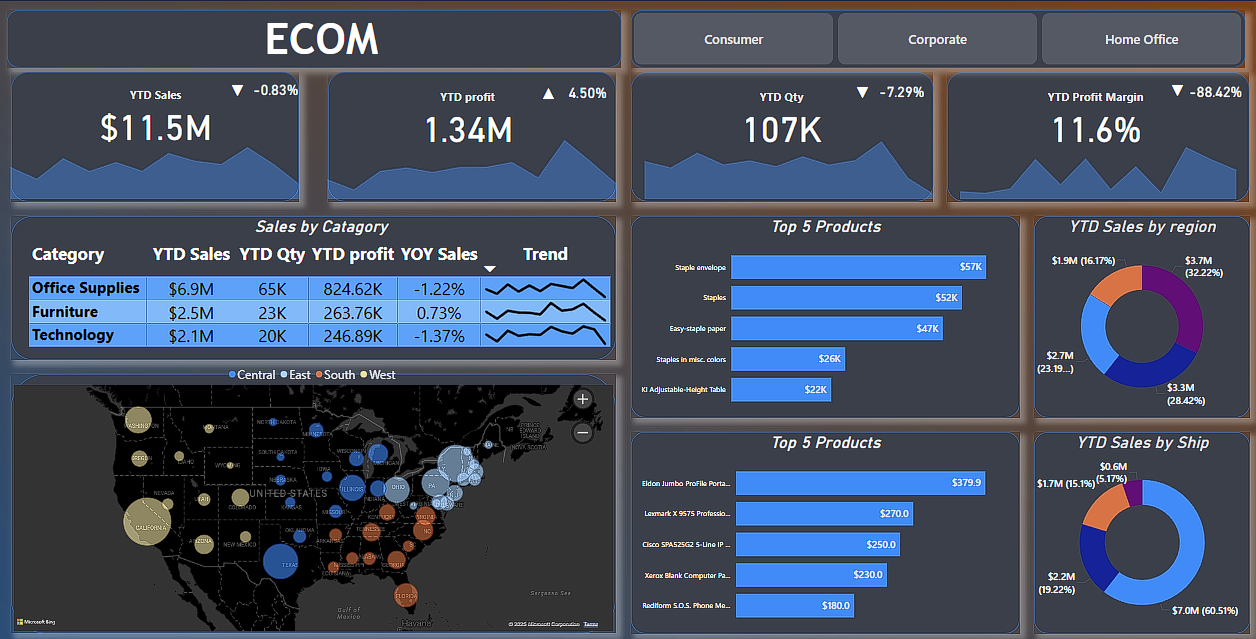

Layout of this report page (visuals, bound fields, positions):
{"tool":"powerbi","page":{"name":"Page 1","canvas":[2100,1080],"ordinal":0},"visuals":[{"type":"shape","box":[16,16,1024,96],"z":0},{"type":"textbox","box":[384,16,336,112],"z":1000},{"type":"shape","box":[24,120,480,216],"z":2000},{"type":"cardVisual","fields":{"Data":["_Measures.YTD Sales"]},"box":[128,128,272,128],"z":3000},{"type":"areaChart","fields":{"Category":["Calendar.Month"],"Y":["Sum(ecommerce_data.sales_per_order)"]},"box":[0,216,528,120],"z":4000},{"type":"cardVisual","fields":{"Data":["_Measures.YOY Sales"]},"box":[400,112,128,64],"z":5000},{"type":"cardVisual","fields":{"Data":["_Measures.Sales Icon"]},"box":[336,112,128,64],"z":6000},{"type":"shape","box":[552,120,480,216],"z":7000},{"type":"cardVisual","fields":{"Data":["_Measures.YTD profit"]},"box":[647.7,132.3,272,128],"z":8000},{"type":"areaChart","fields":{"Category":["Calendar.Month"],"Y":["Sum(ecommerce_data.profit_per_order)"]},"box":[528,216,528,120],"z":9000},{"type":"cardVisual","fields":{"Data":["_Measures.YOY Profit"]},"box":[919.7,116.3,128,64],"z":10000},{"type":"cardVisual","fields":{"Data":["_Measures.Profit Icon"]},"box":[855.7,116.3,128,64],"z":11000},{"type":"shape","box":[1056,120,504,216],"z":12000},{"type":"cardVisual","fields":{"Data":["_Measures.YTD Qty"]},"box":[1171,131.7,272,128],"z":13000},{"type":"areaChart","fields":{"Category":["Calendar.Month"],"Y":["Sum(ecommerce_data.order_quantity)"]},"box":[1056,216,528,120],"z":14000},{"type":"cardVisual","fields":{"Data":["_Measures.YOY Qty"]},"box":[1443,115.7,128,64],"z":15000},{"type":"cardVisual","fields":{"Data":["_Measures.Qty Icon"]},"box":[1379,115.7,128,64],"z":16000},{"type":"shape","box":[1584,120,504,216],"z":17000},{"type":"cardVisual","fields":{"Data":["_Measures.YTD Profit Margin"]},"box":[1694.3,131.7,272,128],"z":18000},{"type":"areaChart","fields":{"Category":["Calendar.Month"],"Y":["_Measures.Profit Margin"]},"box":[1584,216,504,120],"z":19000},{"type":"cardVisual","fields":{"Data":["_Measures.YoY Profit Margin"]},"box":[1966.3,115.7,128,64],"z":20000},{"type":"cardVisual","fields":{"Data":["_Measures.Profit Margin Icon"]},"box":[1904,112,128,64],"z":21000},{"type":"shape","box":[24,360,1008,240],"z":22000},{"type":"pivotTable","title":"Sales by Catagory","fields":{"Rows":["ecommerce_data.category_name"],"Values":["_Measures.YTD Sales","_Measures.YTD Qty","_Measures.YTD profit","_Measures.YOY Sales","SparklineData(Sum(ecommerce_data.sales_per_order)_[Calendar.Month])"]},"box":[48,360,984,240],"z":23000},{"type":"shape","box":[24,624,1008,432],"z":24000},{"type":"map","fields":{"X":["us_state_long_lat_codes.longitude"],"Y":["us_state_long_lat_codes.latitude"],"Series":["ecommerce_data.customer_region"],"Size":["_Measures.YTD Sales"]},"box":[24,600,1008,456],"z":25000},{"type":"shape","box":[1056,360,648,336],"z":25001},{"type":"shape","box":[1056,720,648,336],"z":25002},{"type":"barChart","title":"Top 5 Products","fields":{"Y":["_Measures.YTD Sales"],"Category":["ecommerce_data.product_name"]},"box":[1056,360,648,336],"z":25003},{"type":"barChart","title":"Top 5 Products","fields":{"Y":["_Measures.YTD Sales"],"Category":["ecommerce_data.product_name"]},"box":[1056,720,648,336],"z":25004},{"type":"shape","box":[1728,360,360,336],"z":25006},{"type":"shape","box":[1728,720,360,336],"z":25007},{"type":"donutChart","title":"YTD Sales by region","fields":{"Category":["ecommerce_data.customer_region"],"Y":["_Measures.YTD Sales"]},"box":[1728,360,360,336],"z":25008},{"type":"donutChart","title":"YTD Sales by Ship","fields":{"Y":["_Measures.YTD Sales"],"Category":["ecommerce_data.shipping_type"]},"box":[1716,720,384,336],"z":25009},{"type":"shape","box":[1056,16,1024,96],"z":25010},{"type":"advancedSlicerVisual","fields":{"Values":["ecommerce_data.customer_segment"]},"box":[1056,16,1024,96],"z":25011}]}

Visuals, with their boxes in screenshot pixels (x1, y1, x2, y2), scaled from the page's 2100x1080 canvas onto the 1256x639 screenshot:
shape: 10/9/622/66
textbox: 230/9/431/76
shape: 14/71/301/199
cardVisual - _Measures.YTD Sales: 77/76/239/151
areaChart - Calendar.Month x Sum(ecommerce_data.sales_per_order): 0/128/316/199
cardVisual - _Measures.YOY Sales: 239/66/316/104
cardVisual - _Measures.Sales Icon: 201/66/278/104
shape: 330/71/617/199
cardVisual - _Measures.YTD profit: 387/78/550/154
areaChart - Calendar.Month x Sum(ecommerce_data.profit_per_order): 316/128/632/199
cardVisual - _Measures.YOY Profit: 550/69/627/107
cardVisual - _Measures.Profit Icon: 512/69/588/107
shape: 632/71/933/199
cardVisual - _Measures.YTD Qty: 700/78/863/154
areaChart - Calendar.Month x Sum(ecommerce_data.order_quantity): 632/128/947/199
cardVisual - _Measures.YOY Qty: 863/68/940/106
cardVisual - _Measures.Qty Icon: 825/68/901/106
shape: 947/71/1249/199
cardVisual - _Measures.YTD Profit Margin: 1013/78/1176/154
areaChart - Calendar.Month x _Measures.Profit Margin: 947/128/1249/199
cardVisual - _Measures.YoY Profit Margin: 1176/68/1253/106
cardVisual - _Measures.Profit Margin Icon: 1139/66/1215/104
shape: 14/213/617/355
"Sales by Catagory" pivotTable: 29/213/617/355
shape: 14/369/617/625
map - us_state_long_lat_codes.longitude x us_state_long_lat_codes.latitude: 14/355/617/625
shape: 632/213/1019/412
shape: 632/426/1019/625
"Top 5 Products" barChart: 632/213/1019/412
"Top 5 Products" barChart: 632/426/1019/625
shape: 1034/213/1249/412
shape: 1034/426/1249/625
"YTD Sales by region" donutChart: 1034/213/1249/412
"YTD Sales by Ship" donutChart: 1026/426/1255/625
shape: 632/9/1244/66
advancedSlicerVisual - ecommerce_data.customer_segment: 632/9/1244/66
